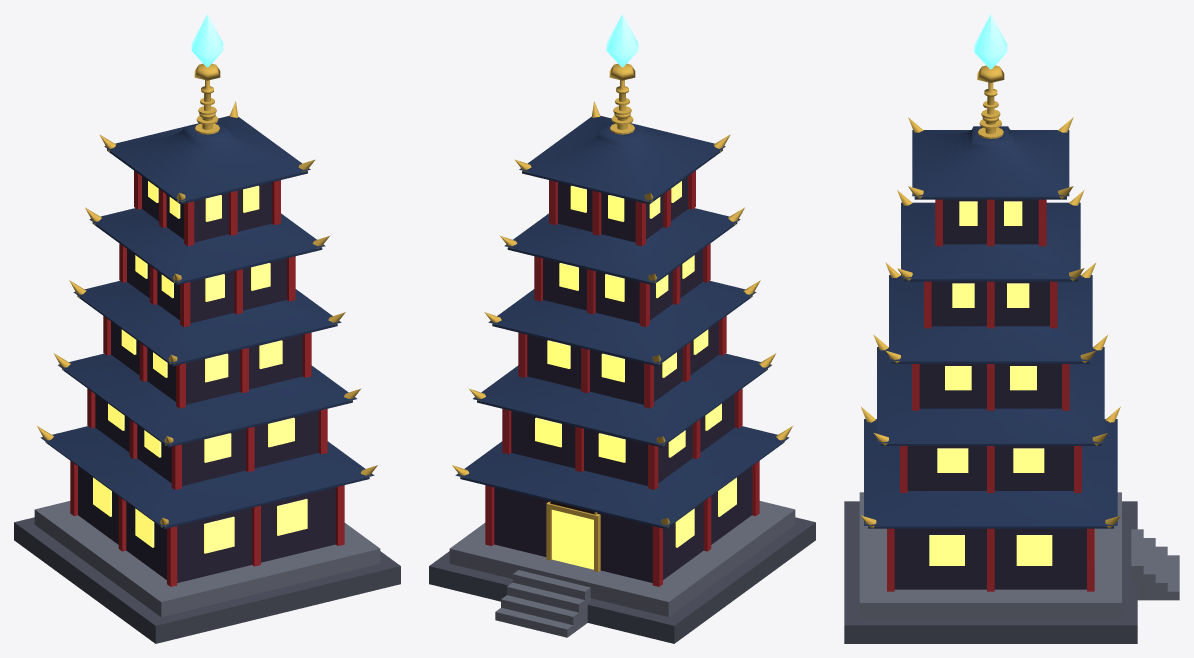
Rendered from tower_v2.glb.
The picture shows the model from 3 angles, left to right: view 1: azimuth 30°, elevation 25°; view 2: azimuth 150°, elevation 25°; view 3: azimuth 270°, elevation 25°; orthographic projection. The views are drawn at different scales.
Parts seen in each view (by area): view 1: Roof_24365A, Wall_2E2840, Stone_6B6F7E, StoneDark_4A4D5C, Pillar_B3262E, Window_FFC86B, Gold_E6B84A, Crystal_8FF3FF; view 2: Roof_24365A, Wall_2E2840, Stone_6B6F7E, Pillar_B3262E, Window_FFC86B, StoneDark_4A4D5C, Gold_E6B84A, Crystal_8FF3FF; view 3: Roof_24365A, Wall_2E2840, Stone_6B6F7E, StoneDark_4A4D5C, Window_FFC86B, Pillar_B3262E, Gold_E6B84A, Crystal_8FF3FF.
Part boxes in pixels (x1=…): Roof_24365A: x1=40, y1=115, x2=374, y2=528; Wall_2E2840: x1=78, y1=176, x2=335, y2=582; Stone_6B6F7E: x1=34, y1=501, x2=380, y2=616; StoneDark_4A4D5C: x1=14, y1=517, x2=400, y2=643; Pillar_B3262E: x1=70, y1=171, x2=344, y2=586; Window_FFC86B: x1=93, y1=181, x2=307, y2=553; Gold_E6B84A: x1=37, y1=63, x2=377, y2=527; Crystal_8FF3FF: x1=191, y1=14, x2=223, y2=67; Roof_24365A: x1=455, y1=115, x2=789, y2=528; Wall_2E2840: x1=494, y1=176, x2=751, y2=582; Stone_6B6F7E: x1=449, y1=501, x2=795, y2=637; Pillar_B3262E: x1=485, y1=171, x2=759, y2=586; Window_FFC86B: x1=535, y1=181, x2=736, y2=569; StoneDark_4A4D5C: x1=429, y1=517, x2=815, y2=643; Gold_E6B84A: x1=452, y1=63, x2=792, y2=571; Crystal_8FF3FF: x1=606, y1=14, x2=638, y2=67; Roof_24365A: x1=864, y1=126, x2=1117, y2=528; Wall_2E2840: x1=894, y1=199, x2=1086, y2=589; Stone_6B6F7E: x1=859, y1=492, x2=1179, y2=618; StoneDark_4A4D5C: x1=844, y1=501, x2=1137, y2=643; Window_FFC86B: x1=929, y1=201, x2=1052, y2=565; Pillar_B3262E: x1=887, y1=199, x2=1094, y2=591; Gold_E6B84A: x1=861, y1=65, x2=1120, y2=560; Crystal_8FF3FF: x1=974, y1=14, x2=1007, y2=69.
Bounding box in the file's own units: 60.71 × 130 × 69.46.
